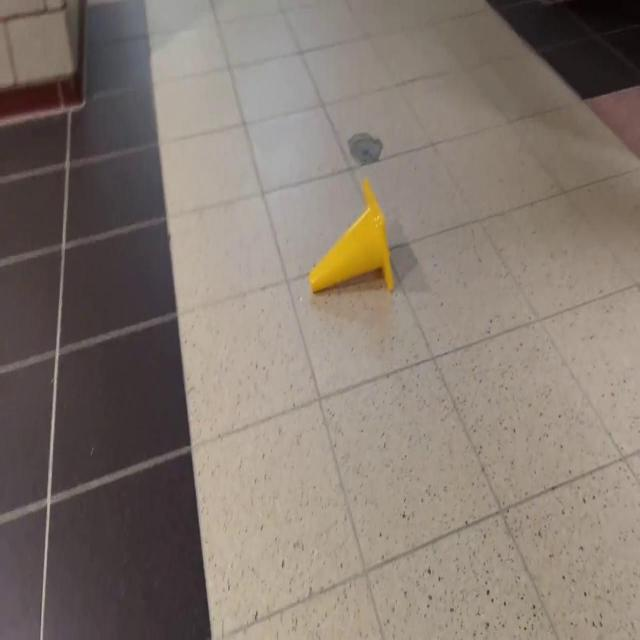frc_cone: (309, 176, 396, 299)
